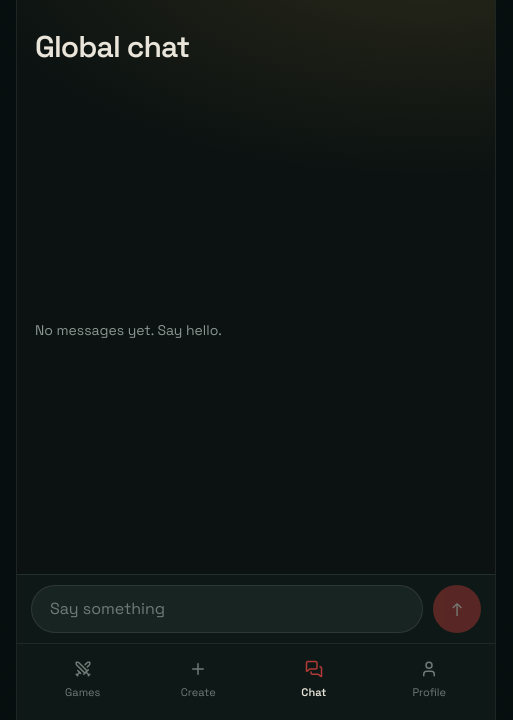
Test: does not let an out-of-order candidate response replace the current query
In the dropdown named "Message": point(227, 609) [31,585,423,633], type "@old"
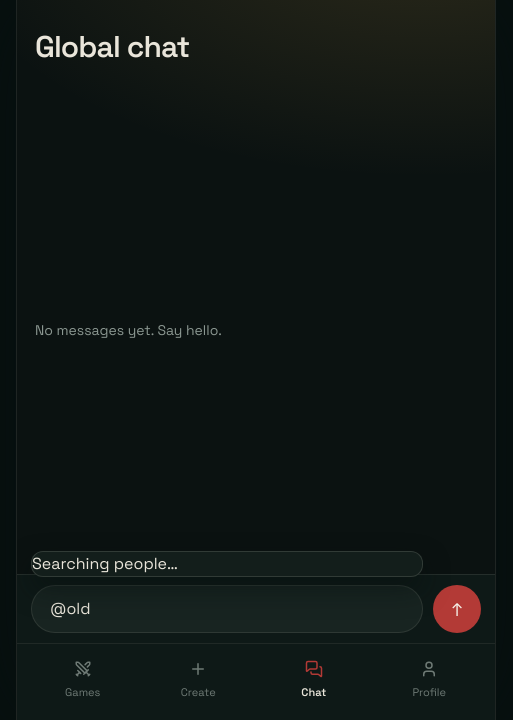
Replace the text in the dropdown named "Message" with "@new": point(227, 609) [31,585,423,633]
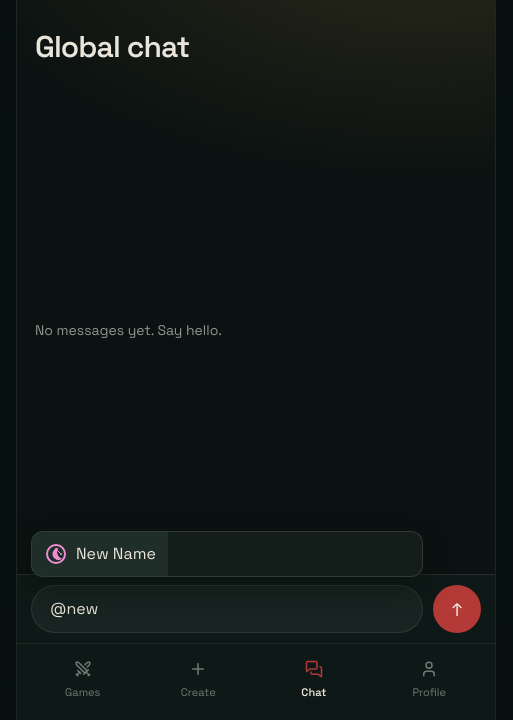
Check: the option with aria-label "New Name, user new-user" is shown, box [32,532,168,576]
